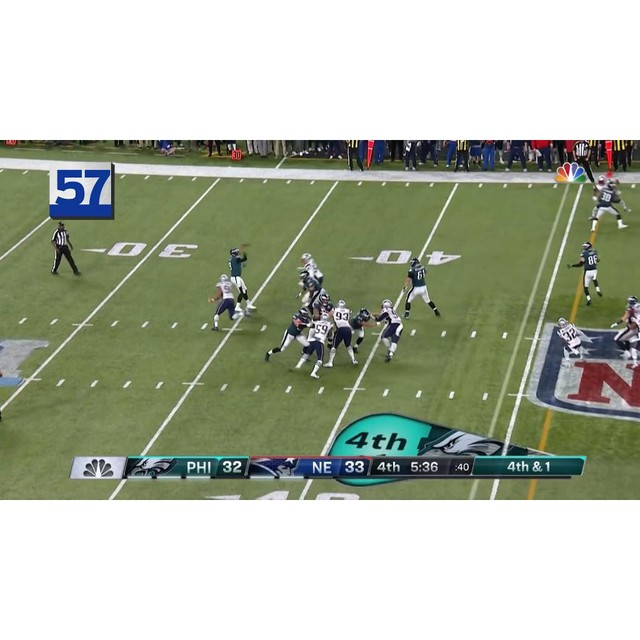american-football-player: (264, 306, 311, 364), (293, 312, 333, 379), (401, 257, 440, 318), (567, 242, 603, 306), (367, 299, 403, 362), (326, 301, 358, 369), (589, 180, 628, 233), (609, 295, 639, 362), (208, 274, 241, 332), (227, 248, 255, 315), (557, 317, 585, 362), (350, 307, 377, 351), (297, 269, 323, 313), (299, 253, 325, 285)
referee: (50, 220, 82, 278), (572, 140, 595, 185)
